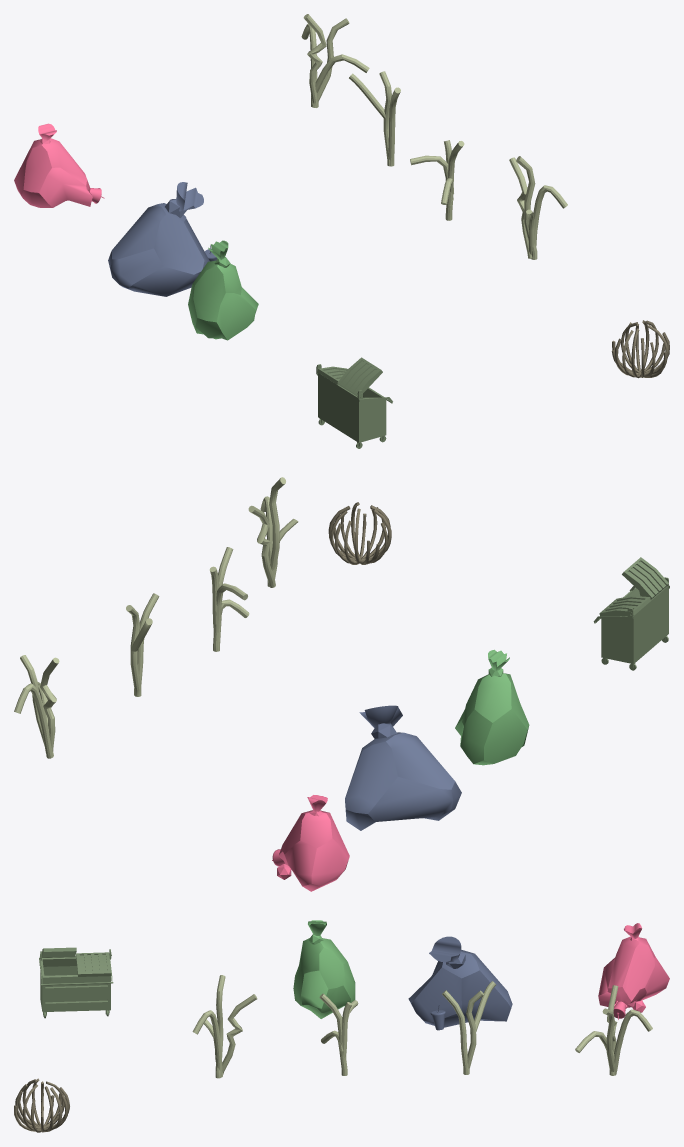
The model's file is ProjectFrontierAssets2.fbx.
3 renders of one model, top to bottom at view 1: azimuth 30°, elevation 25°; view 2: azimuth 150°, elevation 25°; view 3: azimuth 270°, elevation 25°, orthographic. The views are drawn at different scales.
Visible parts, largest first — view 1: TrashBag3, TrashCan, TrashBag1, TrashBag2, TumbleWeed, TreeSmall2, TreeSmall4, TreeSmall1, TreeSmall3; view 2: TrashBag3, TrashBag1, TrashCan, TrashBag2, TumbleWeed, TreeSmall2, TreeSmall4, TreeSmall3, TreeSmall1; view 3: TrashBag3, TrashCan, TrashBag1, TrashBag2, TumbleWeed, TreeSmall4, TreeSmall2, TreeSmall1, TreeSmall3.
Part boxes in pixels (x1,y1,x2,y2): TrashBag3: [108, 182, 217, 296]; TrashCan: [316, 357, 392, 448]; TrashBag1: [188, 240, 258, 340]; TrashBag2: [14, 123, 104, 207]; TumbleWeed: [611, 320, 669, 378]; TreeSmall2: [301, 14, 369, 107]; TreeSmall4: [509, 156, 567, 259]; TreeSmall1: [349, 71, 400, 166]; TreeSmall3: [410, 140, 464, 220]; TrashBag3: [345, 705, 461, 830]; TrashBag1: [455, 649, 529, 765]; TrashCan: [593, 557, 669, 670]; TrashBag2: [272, 795, 349, 891]; TumbleWeed: [328, 502, 391, 564]; TreeSmall2: [14, 655, 59, 758]; TreeSmall4: [248, 477, 298, 587]; TreeSmall3: [209, 547, 249, 651]; TreeSmall1: [126, 593, 159, 696]; TrashBag3: [408, 936, 512, 1030]; TrashCan: [39, 947, 113, 1018]; TrashBag1: [293, 920, 355, 1018]; TrashBag2: [598, 923, 669, 1019]; TumbleWeed: [14, 1078, 69, 1132]; TreeSmall4: [192, 975, 257, 1078]; TreeSmall2: [575, 985, 652, 1075]; TreeSmall1: [442, 981, 495, 1074]; TreeSmall3: [319, 993, 358, 1075].
Size of the model in its own units: 7.28 by 3.37 by 13.31.
